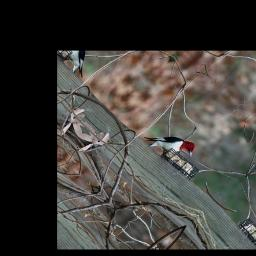Woodpecker: (138, 115, 204, 174)
